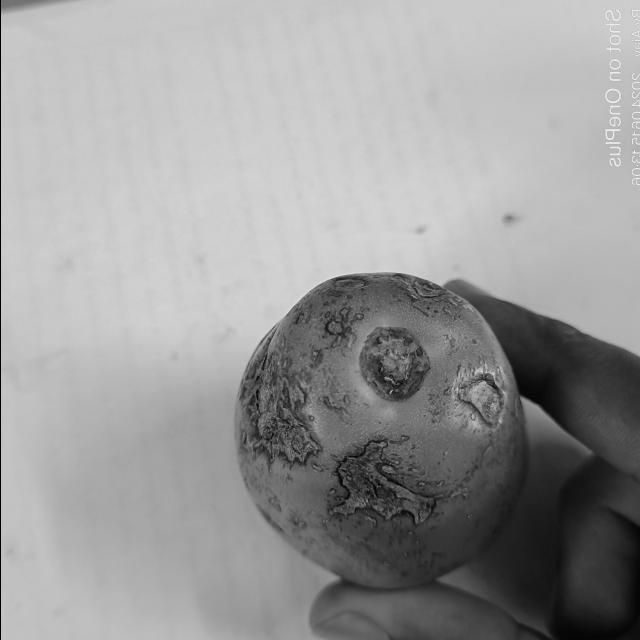Bacterial_Spot: (232, 321, 321, 467), (330, 436, 432, 532), (452, 358, 508, 428)
